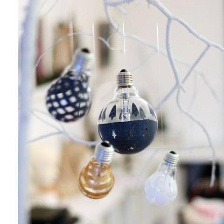light_bulb: (92, 66, 160, 157), (42, 44, 97, 126), (75, 137, 118, 203), (141, 147, 183, 210)
